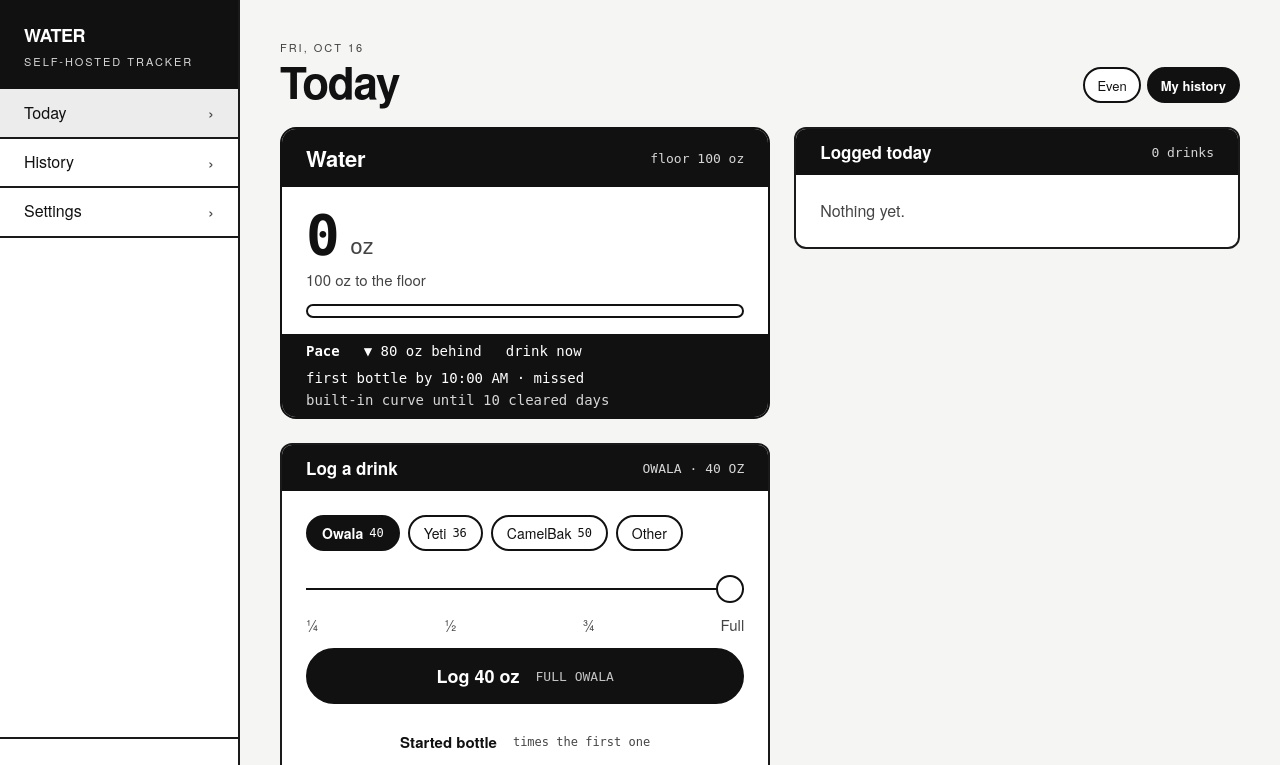
Test: Tracker › adds an entry on tap and removes it with the row's remove button
Click the button "Log 40 oz Full Owala".
click(455, 676)  # box [306,648,744,704]
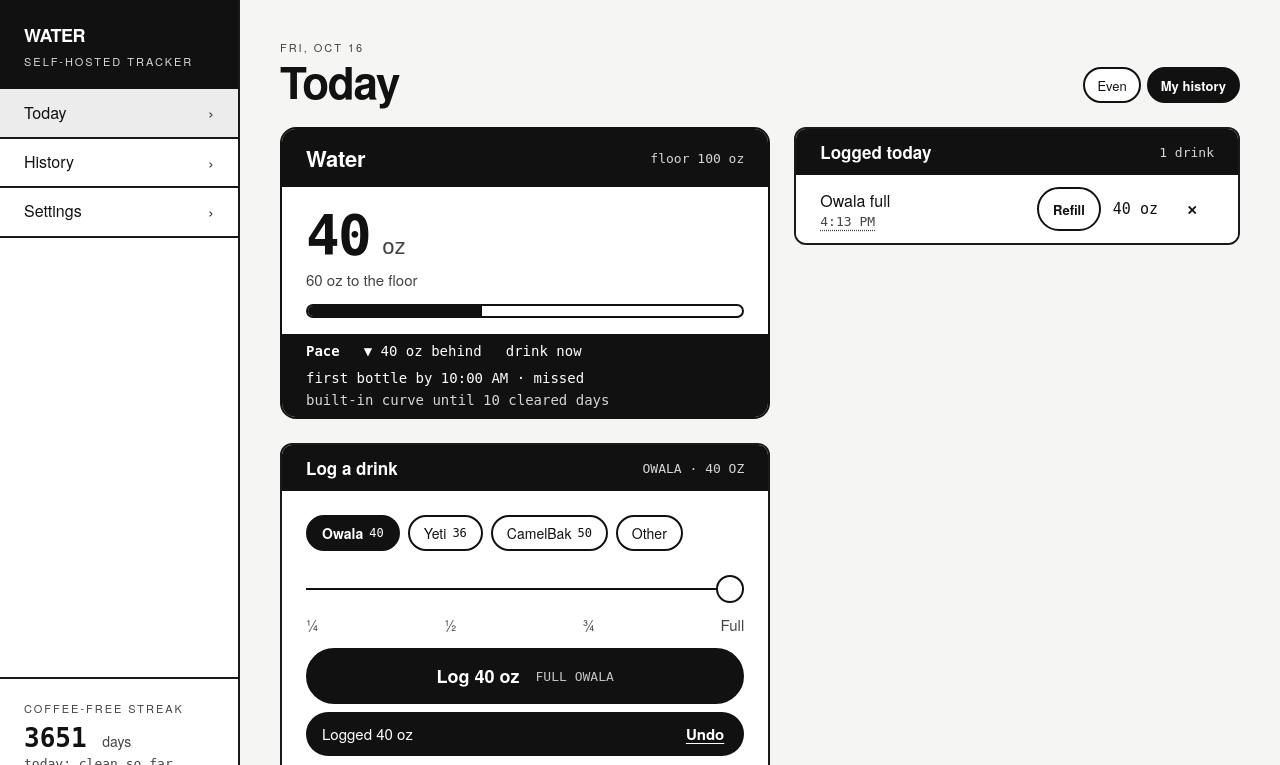
Result: the progress indicator has attribute aria-valuenow="40" at [306,304,744,318]
Click the button named "Remove 40 oz entry".
click(1192, 210)  # box [1170,188,1214,232]
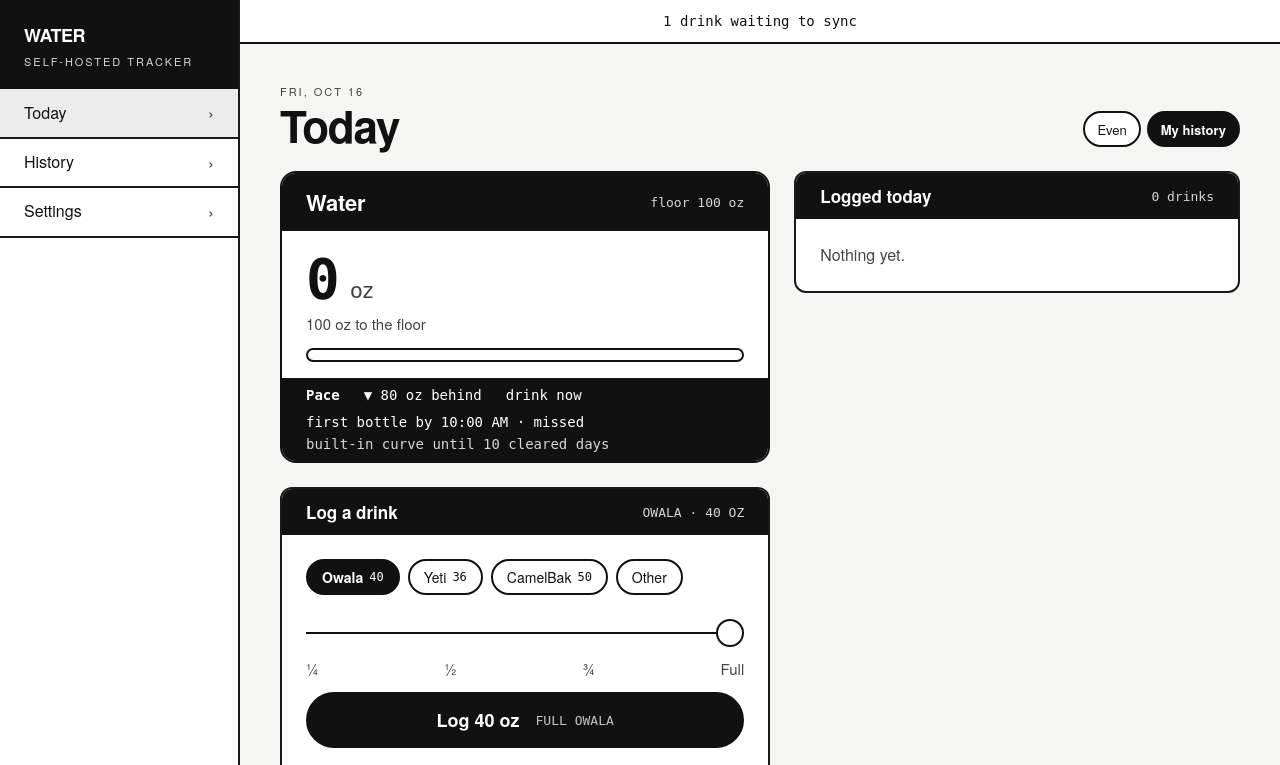
Expected: the text "0" is shown, [306,246,338,311]
Result: the text "Nothing yet." is shown at [820,244,905,266]
